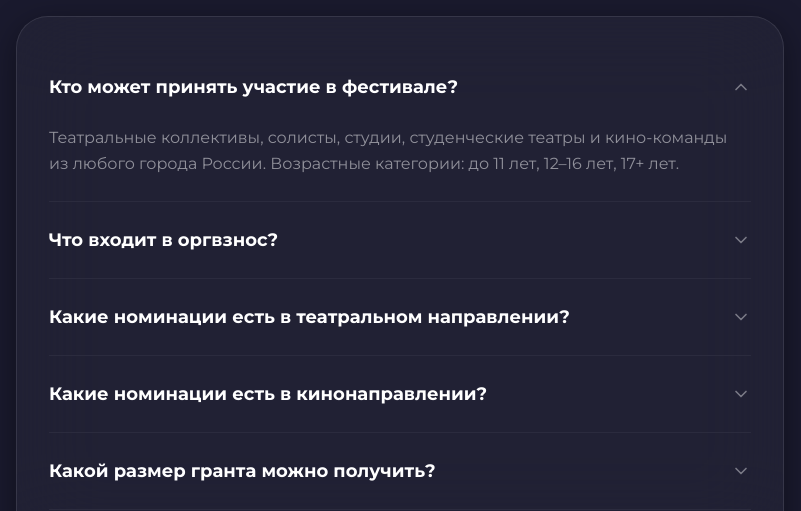
Scenario: FAQ › clicking an open item closes it
Note: First item is open by default
Step 1. Click the button with test id "faq-toggle" that starts with "Кто может принять участие в фестивале?" → [400, 87], box [49,49,751,125]
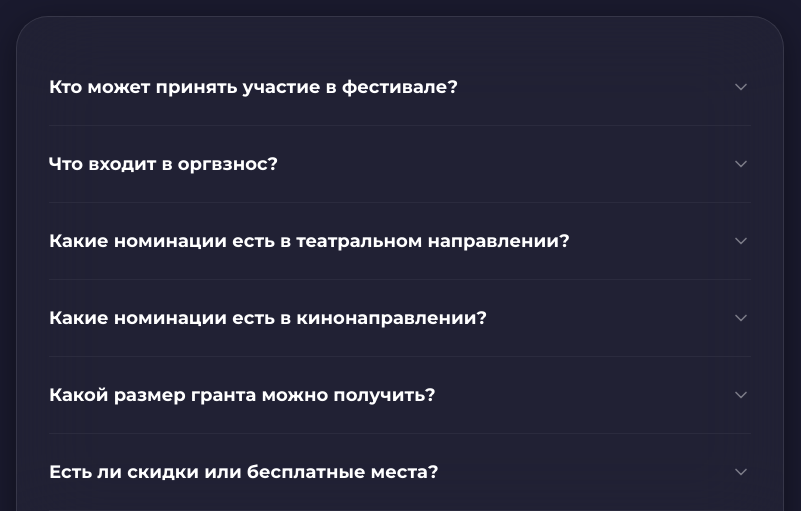
Expected: the button with test id "faq-toggle" is collapsed, [49,49,751,125]
